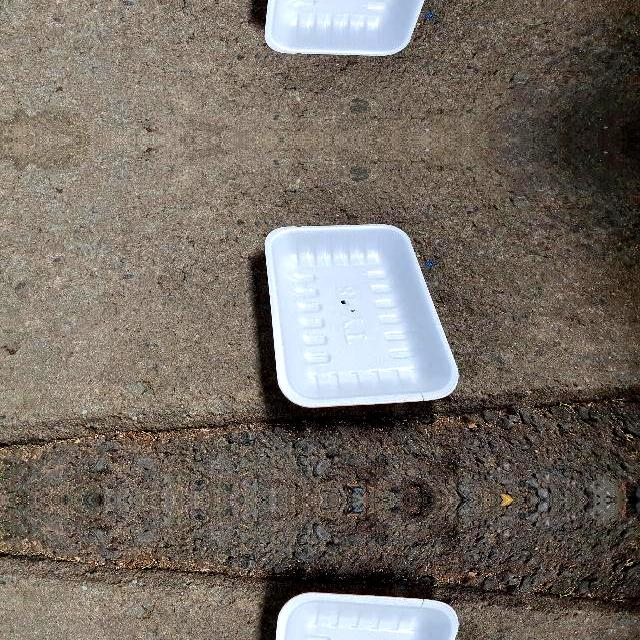Styrofoam: (264, 221, 460, 411), (265, 224, 459, 408), (264, 0, 460, 59), (264, 589, 460, 640), (265, 0, 425, 56), (276, 592, 459, 640)
